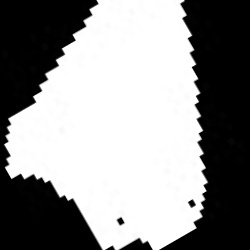spot: (5, 0, 209, 249)
